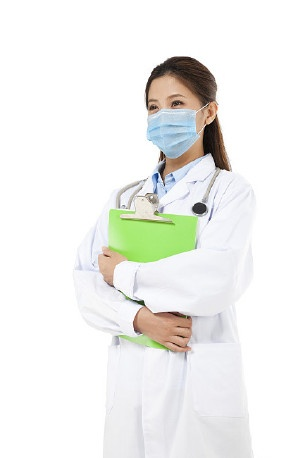Mask: (144, 93, 211, 160)
